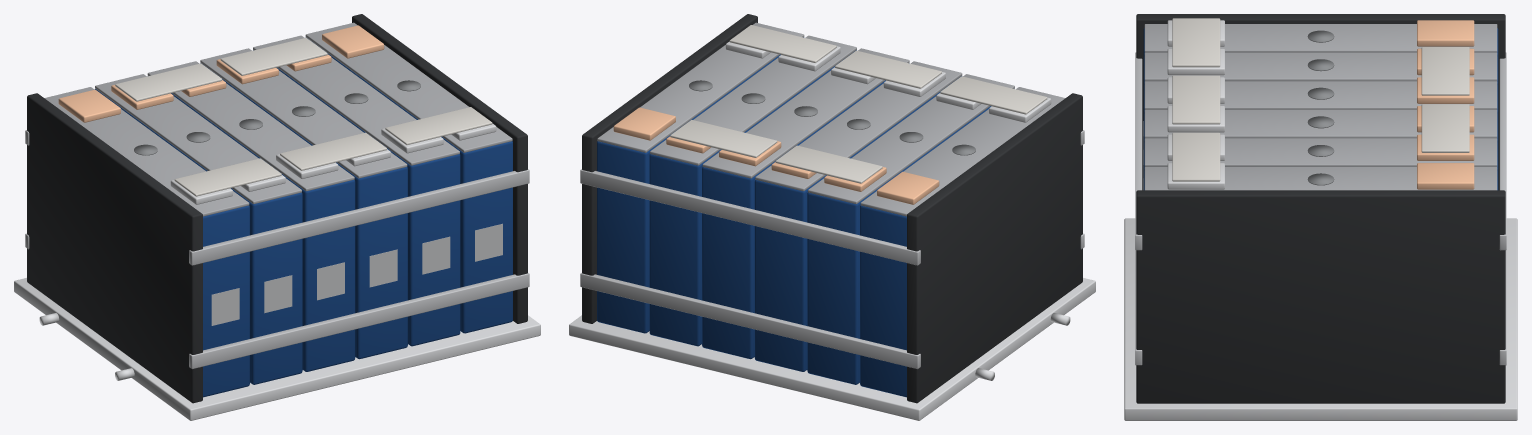
File: module.glb
The picture shows the model from 3 angles, left to right: view 1: azimuth 30°, elevation 25°; view 2: azimuth 150°, elevation 25°; view 3: azimuth 270°, elevation 25°; orthographic projection. The views are drawn at different scales.
Visible parts, largest first — view 1: endplate, coldplate, cell2, cell1, cell4, cell3, cell5, cell0, strap.002, strap, lid5, lid4 (+23 smaller); view 2: endplate, coldplate, cell2, cell1, cell4, cell3, cell5, cell0, strap.003, strap.001, lid5, lid4 (+17 smaller); view 3: endplate.001, coldplate, lid3, lid1, lid4, lid0, lid2, lid5, endplate, bus0, bus2, bus4 (+11 smaller).
Boxes of the visible parts, x1,y1,x2,y2 form: endplate: (27, 93, 202, 403); coldplate: (14, 278, 540, 420); cell2: (171, 93, 355, 371); cell1: (95, 89, 302, 384); cell4: (253, 50, 460, 346); cell3: (200, 63, 407, 359); cell5: (305, 37, 512, 333); cell0: (203, 205, 249, 397); strap.002: (189, 169, 529, 265); strap: (189, 273, 529, 368); lid5: (305, 22, 512, 152); lid4: (253, 35, 459, 165); endplate: (907, 93, 1082, 403); coldplate: (569, 278, 1095, 420); cell2: (754, 76, 961, 371); cell1: (807, 106, 991, 384); cell4: (649, 50, 856, 346); cell3: (702, 63, 909, 359); cell5: (597, 37, 804, 333); cell0: (860, 205, 906, 397); strap.003: (580, 169, 920, 265); strap.001: (580, 273, 920, 368); lid5: (597, 22, 804, 152); lid4: (650, 35, 856, 165); endplate.001: (1136, 190, 1505, 403); coldplate: (1124, 218, 1517, 420); lid3: (1144, 109, 1497, 138); lid1: (1144, 52, 1497, 81); lid4: (1144, 138, 1497, 166); lid0: (1144, 24, 1497, 52); lid2: (1144, 81, 1497, 109); lid5: (1144, 167, 1497, 190); endplate: (1136, 14, 1505, 190); bus0: (1172, 18, 1220, 67); bus2: (1172, 75, 1220, 124); bus4: (1172, 132, 1220, 181).
Size of the model in its own units: 2 by 1.05 by 1.64.
